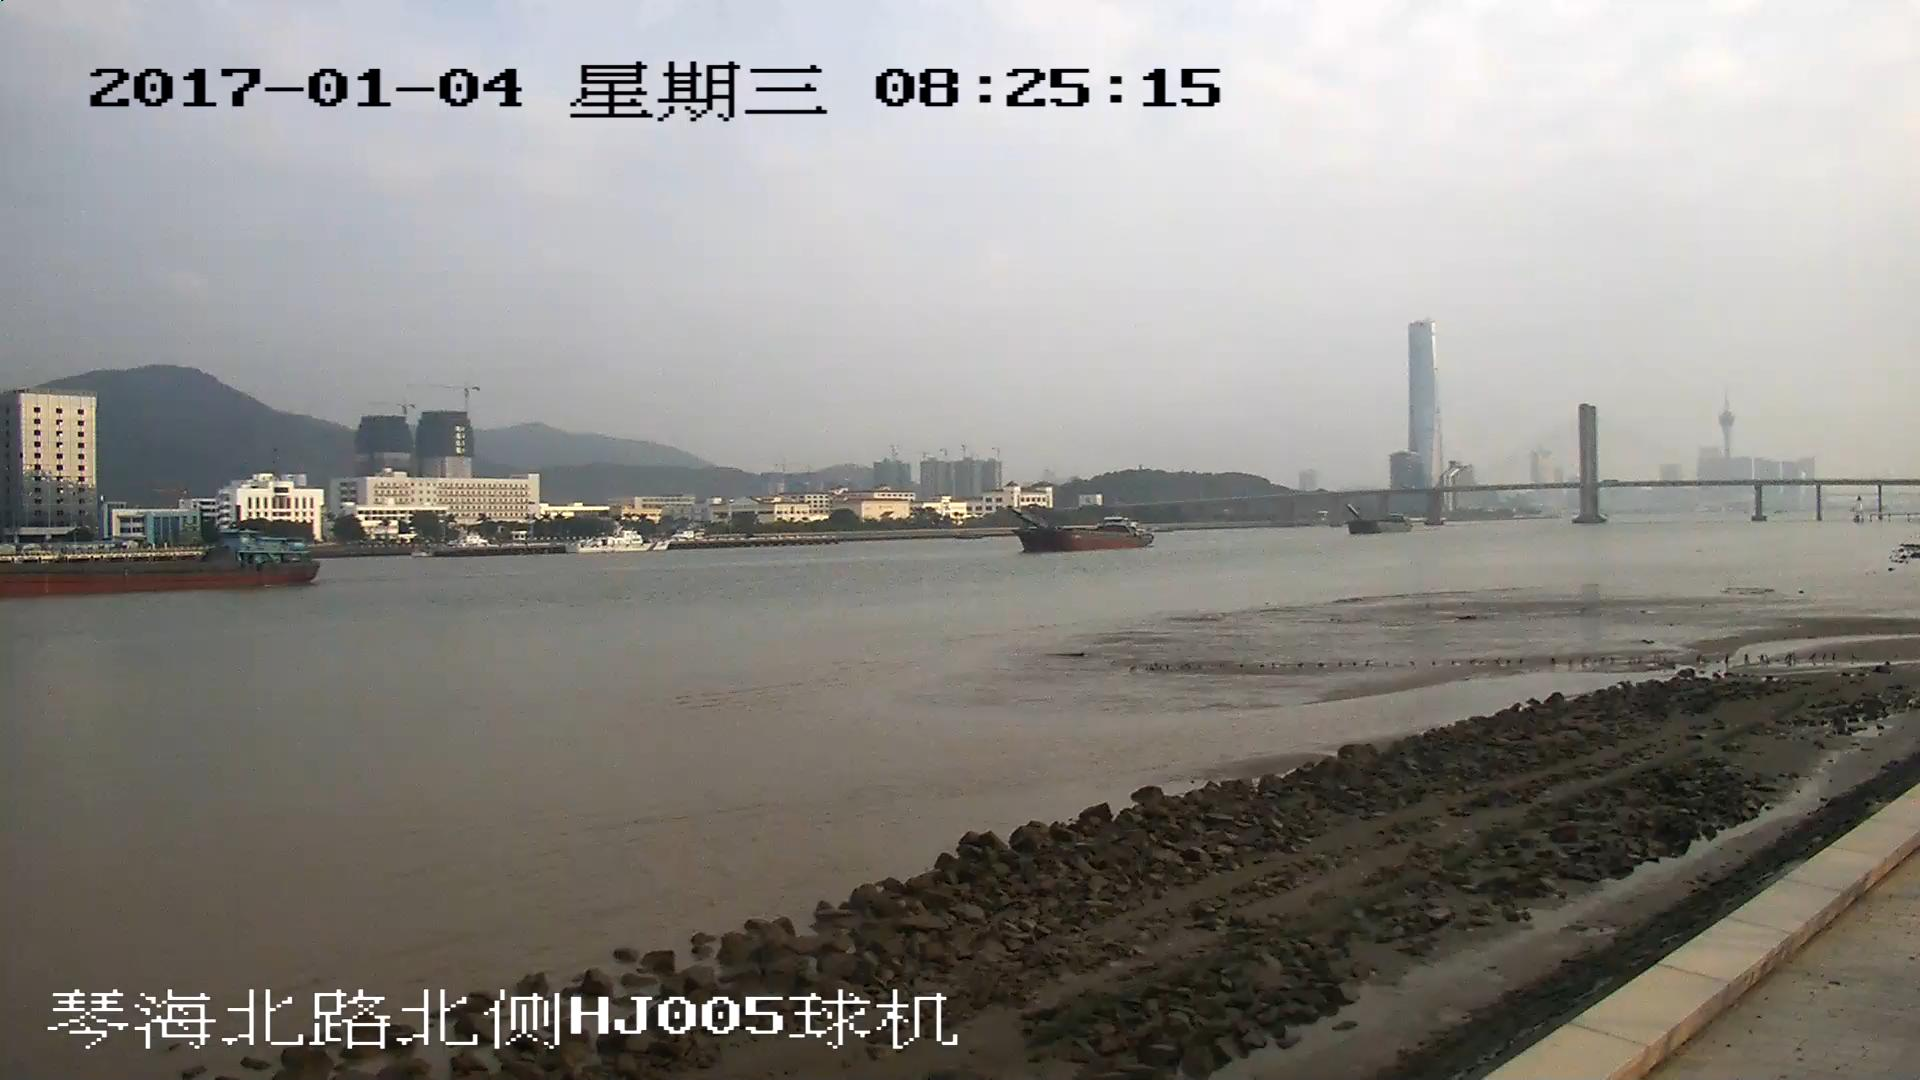bulk cargo carrier: (1, 538, 317, 590), (1009, 508, 1149, 550)
